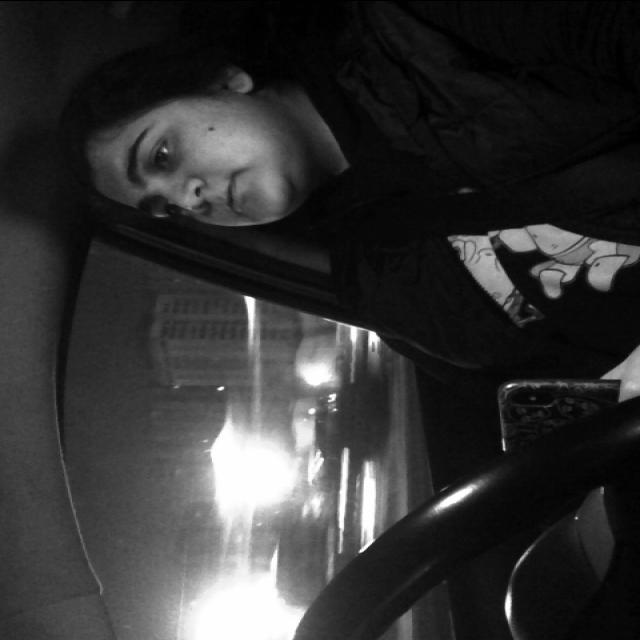mobile use: (490, 371, 640, 456)
